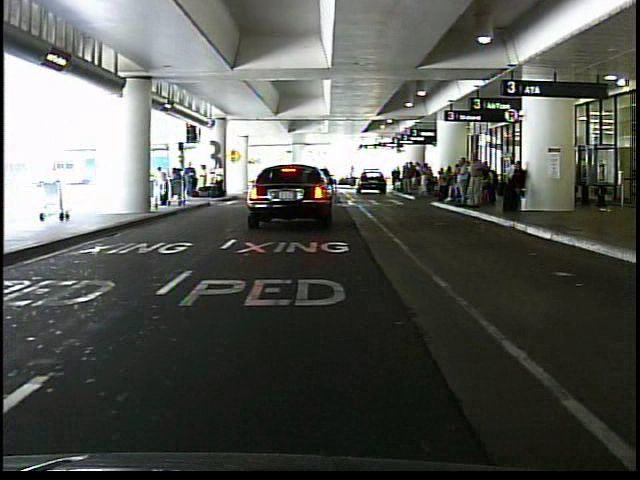person: (463, 150, 485, 212), (150, 166, 170, 219)
